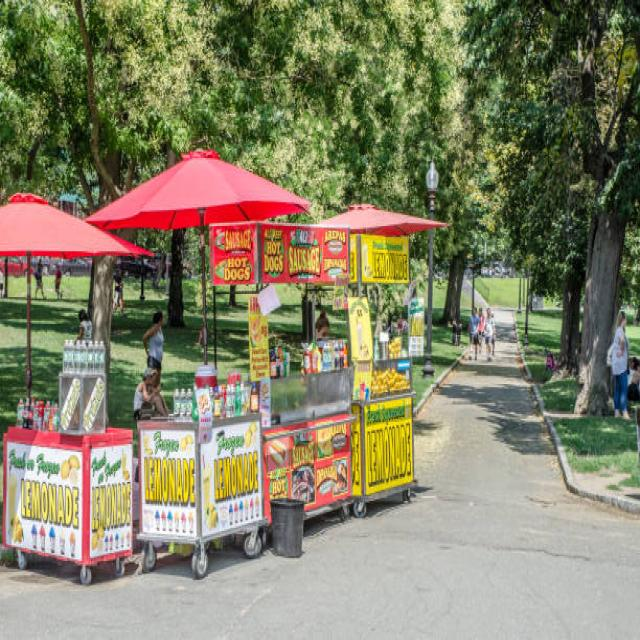Emperan: (0, 185, 144, 599), (320, 199, 458, 543), (129, 340, 278, 585), (229, 322, 375, 572)
